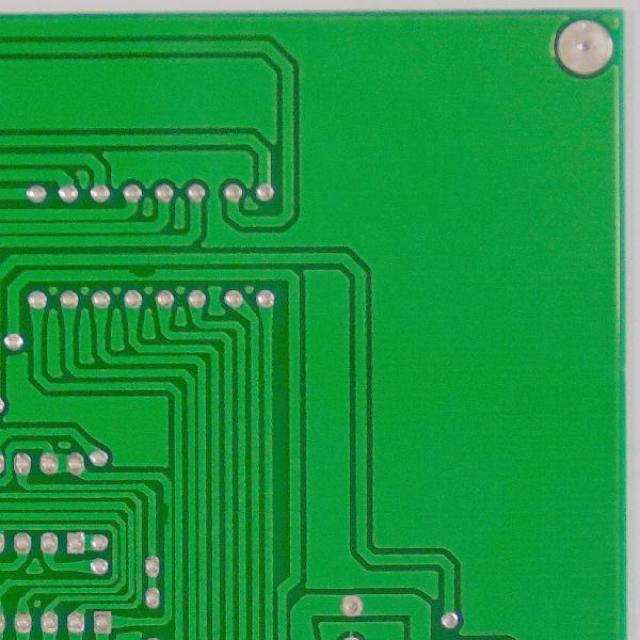MouseBite: (121, 264, 162, 282), (158, 495, 174, 531)
